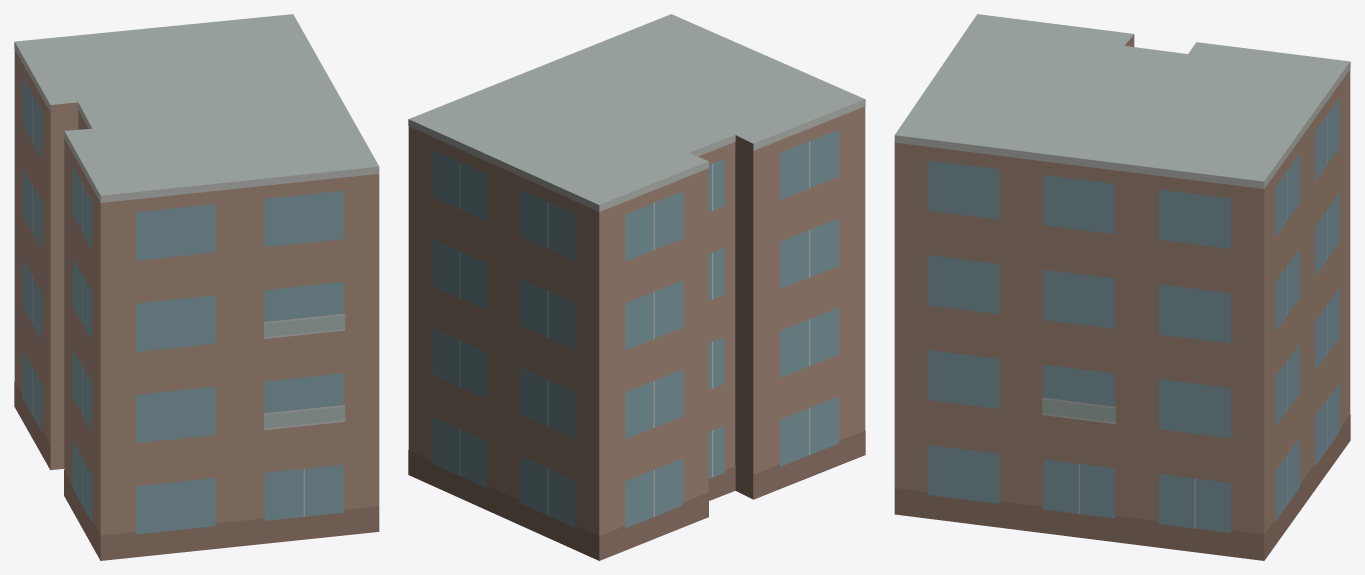
The model's file is survey-upis-32944955.glb.
3 renders of one model, left to right at view 1: azimuth 30°, elevation 25°; view 2: azimuth 150°, elevation 25°; view 3: azimuth 270°, elevation 25°, orthographic. The views are drawn at different scales.
Visible parts, largest first — view 1: survey-upis-32944955.tmp; view 2: survey-upis-32944955.tmp; view 3: survey-upis-32944955.tmp.
Part boxes in pixels (x1,y1,x2,y2): survey-upis-32944955.tmp: [14, 14, 379, 560]; survey-upis-32944955.tmp: [408, 14, 865, 560]; survey-upis-32944955.tmp: [894, 14, 1350, 560].
Bounding box in the file's own units: 11.81 × 12.45 × 13.57.
